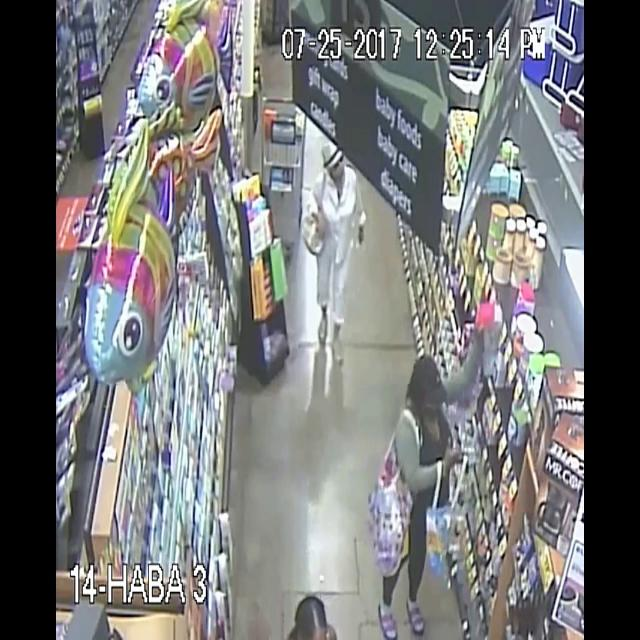Product: (474, 292, 504, 341)
normal: (300, 126, 374, 353), (259, 579, 348, 640)
shoplifting: (364, 287, 512, 640)
